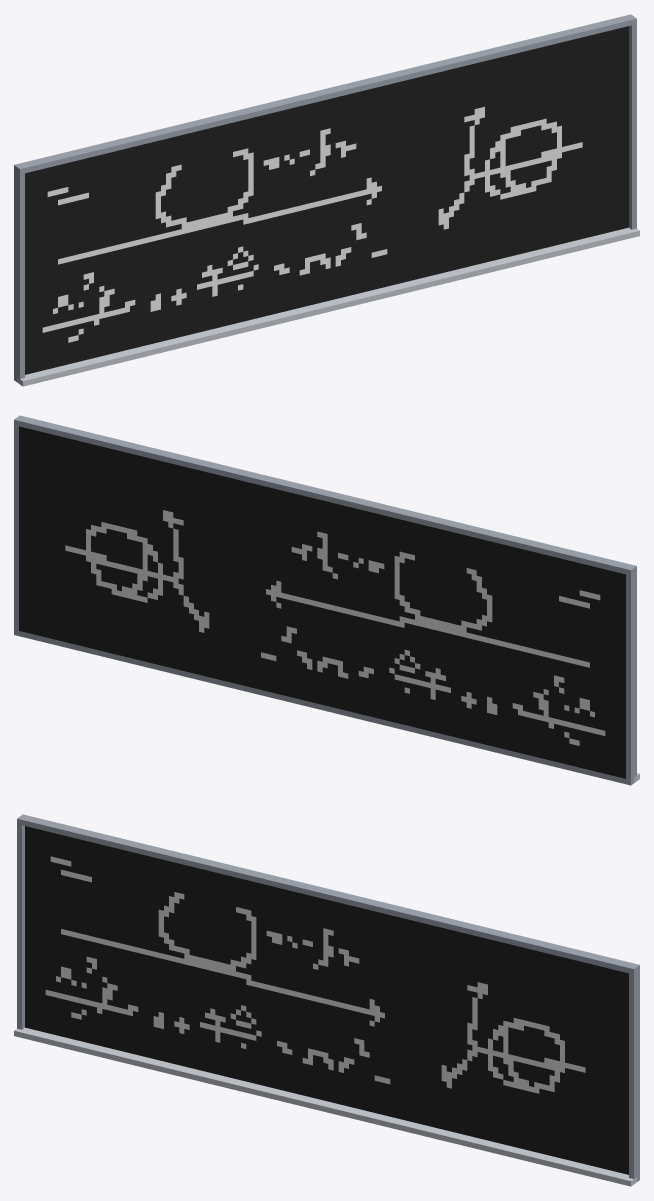
The model's file is board.obj.
The picture shows the model from 3 angles, top to bottom: view 1: azimuth 30°, elevation 25°; view 2: azimuth 150°, elevation 25°; view 3: azimuth 330°, elevation 25°; orthographic projection.
Size of the model in its own units: 12 by 4 by 0.3.
1 material, 1 textured.
